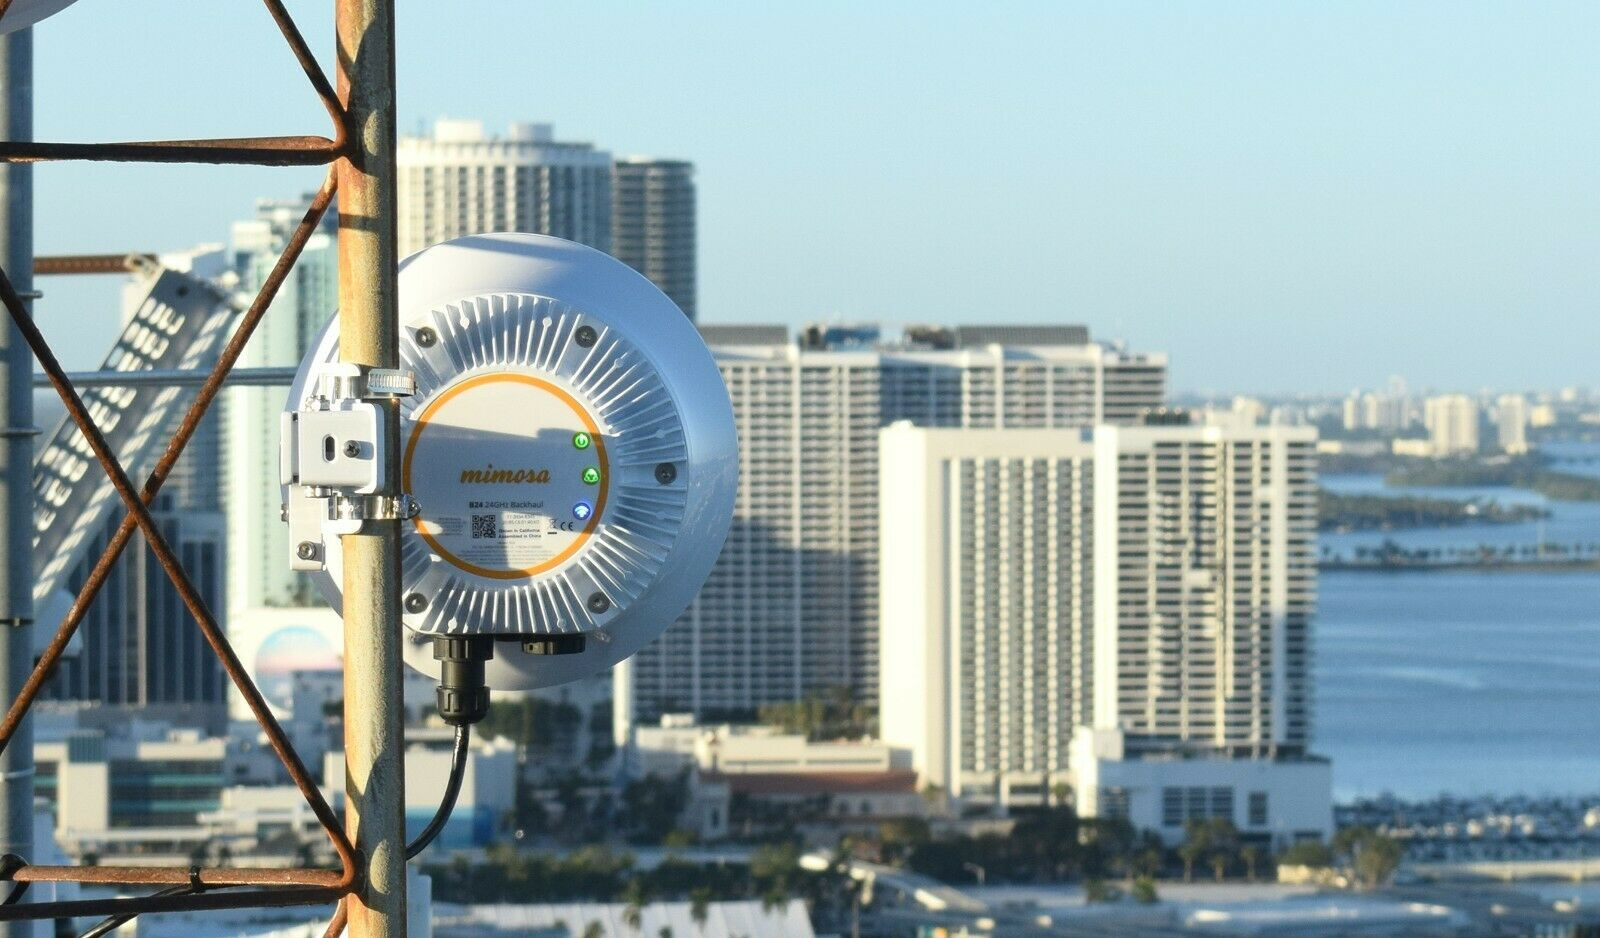ba: (286, 224, 742, 699)
